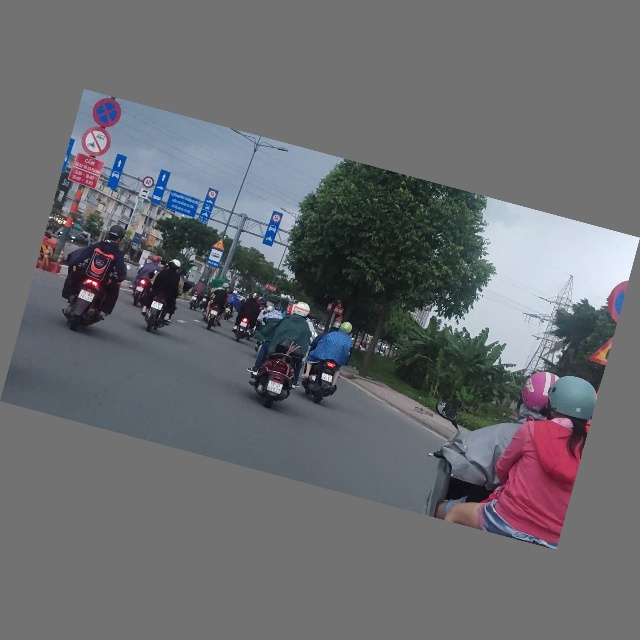I.434a: (206, 247, 224, 269)
P.111: (77, 123, 114, 160)
P.127*50: (271, 213, 282, 225), (207, 190, 217, 200)
P.127*60: (142, 176, 155, 190)
P.130: (89, 95, 124, 131)
S.505a*Xe tai va cong: (138, 188, 150, 201)
W.201b: (211, 237, 228, 252)
